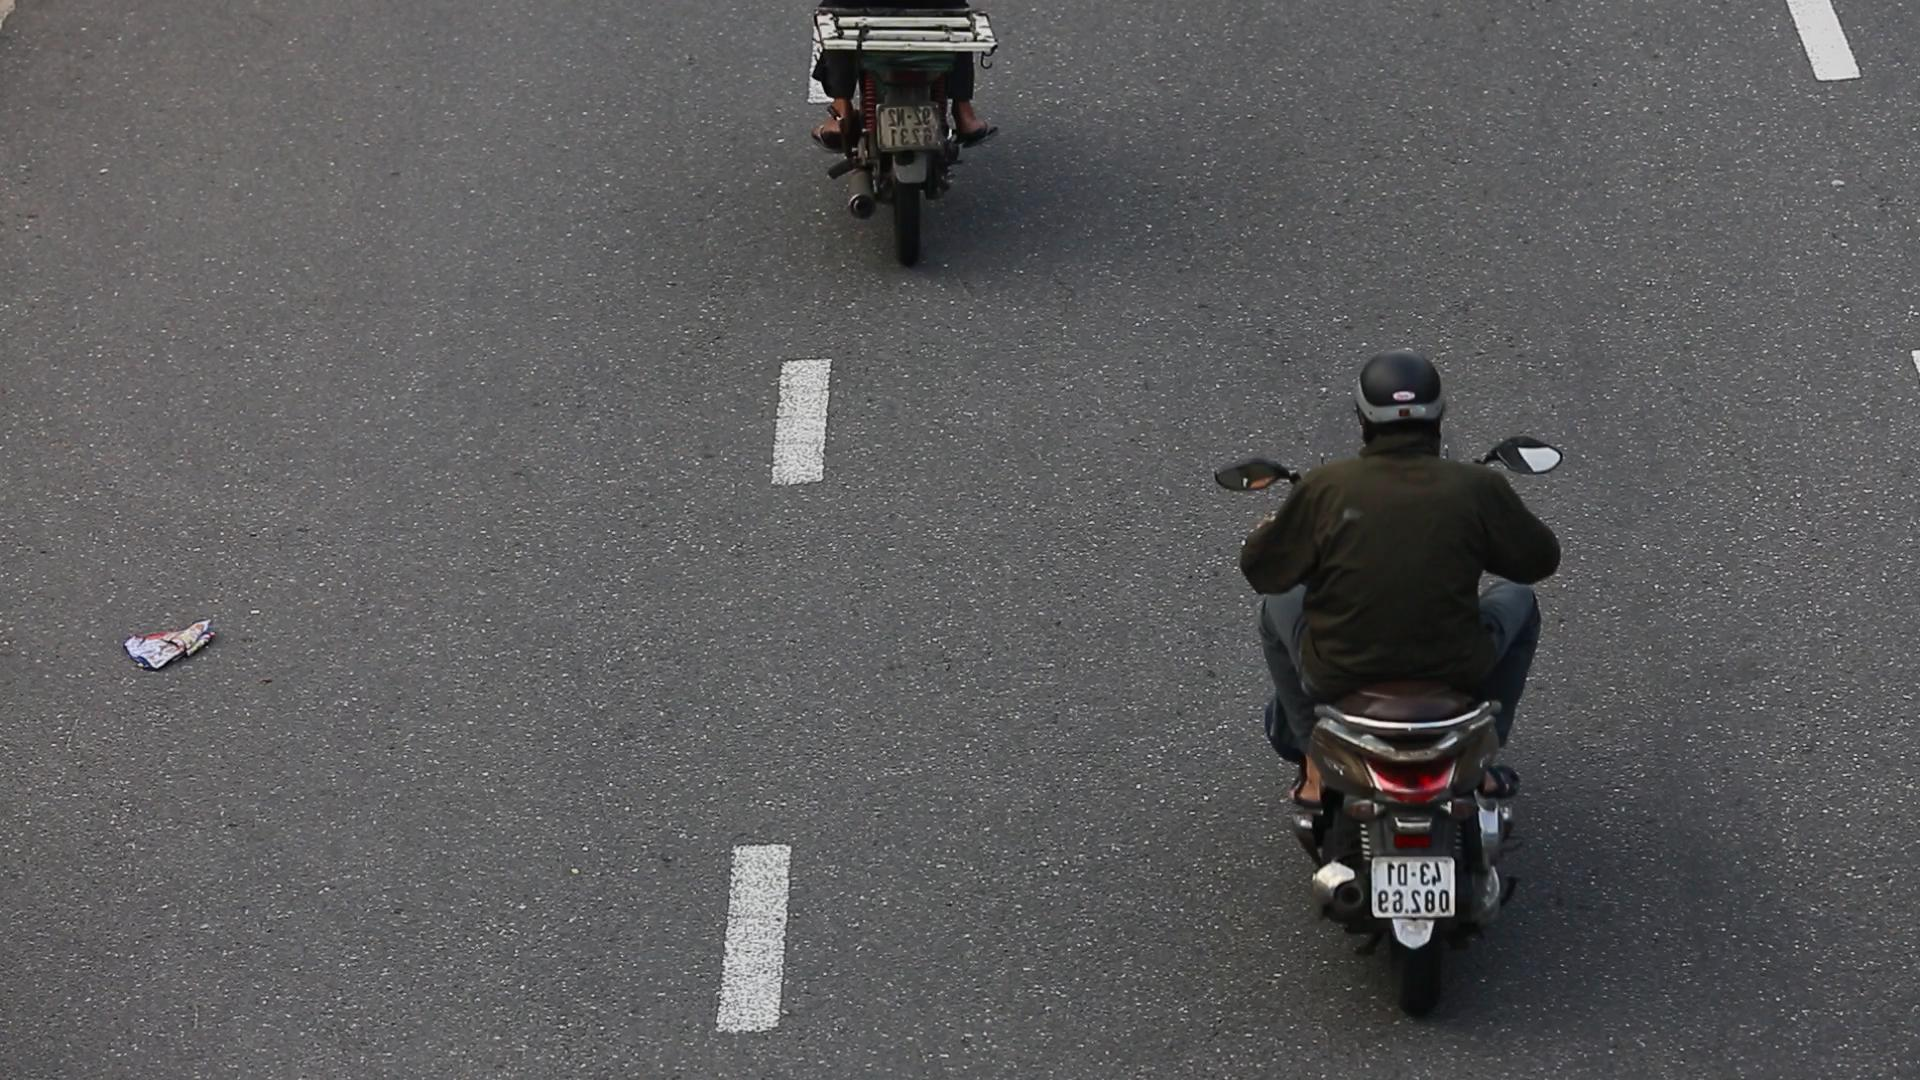motobike: (1204, 343, 1567, 1025)
